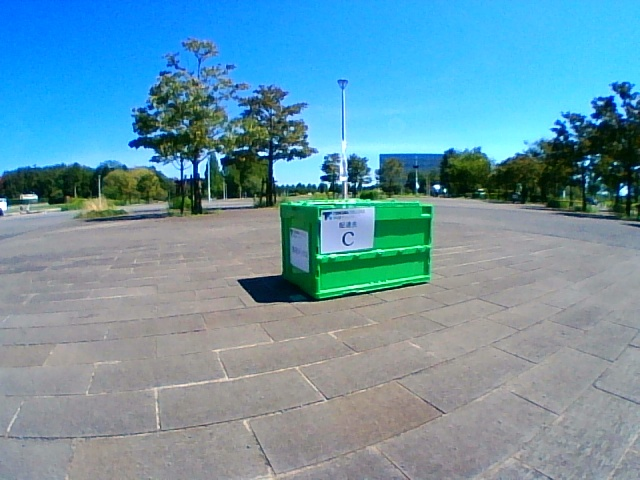green_box: (281, 199, 432, 299)
tag_c: (321, 209, 373, 249)
